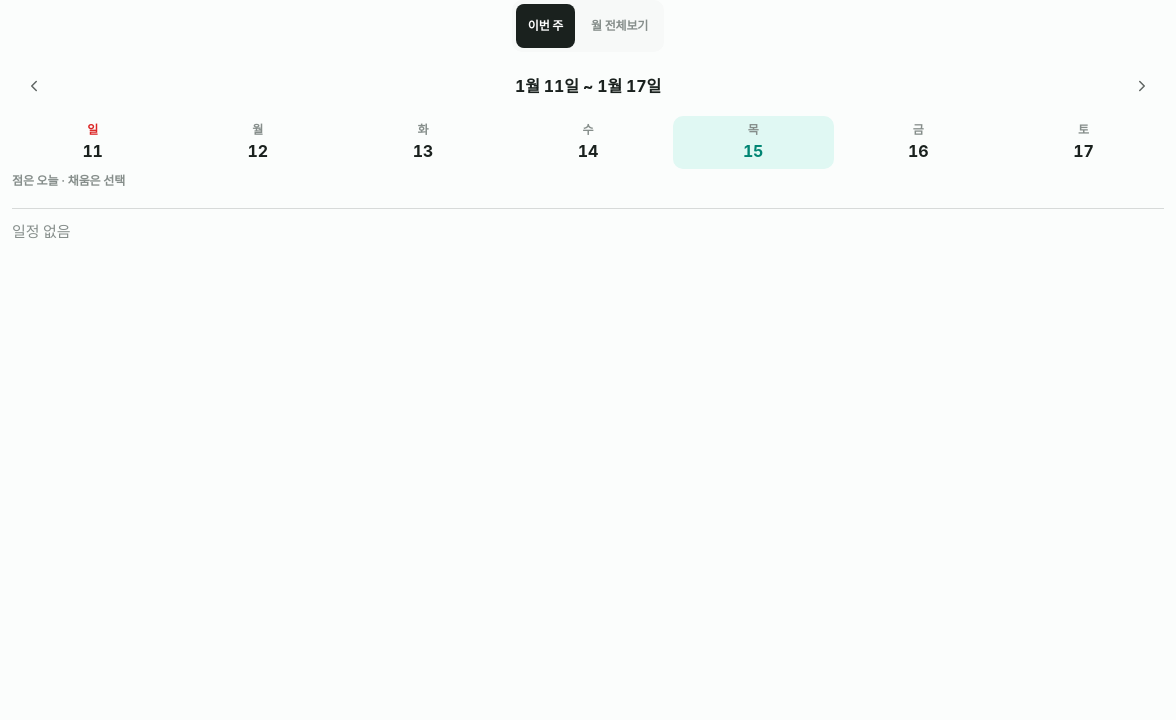
Test: AcademicCalendarGrid — 월 이동(월 전체보기) › 이전 달 버튼을 누르면 연도를 넘어 이동한다
The image size is (1176, 720).
Click the tab "월 전체보기" at (620, 26), box 579,4 -> 660,48
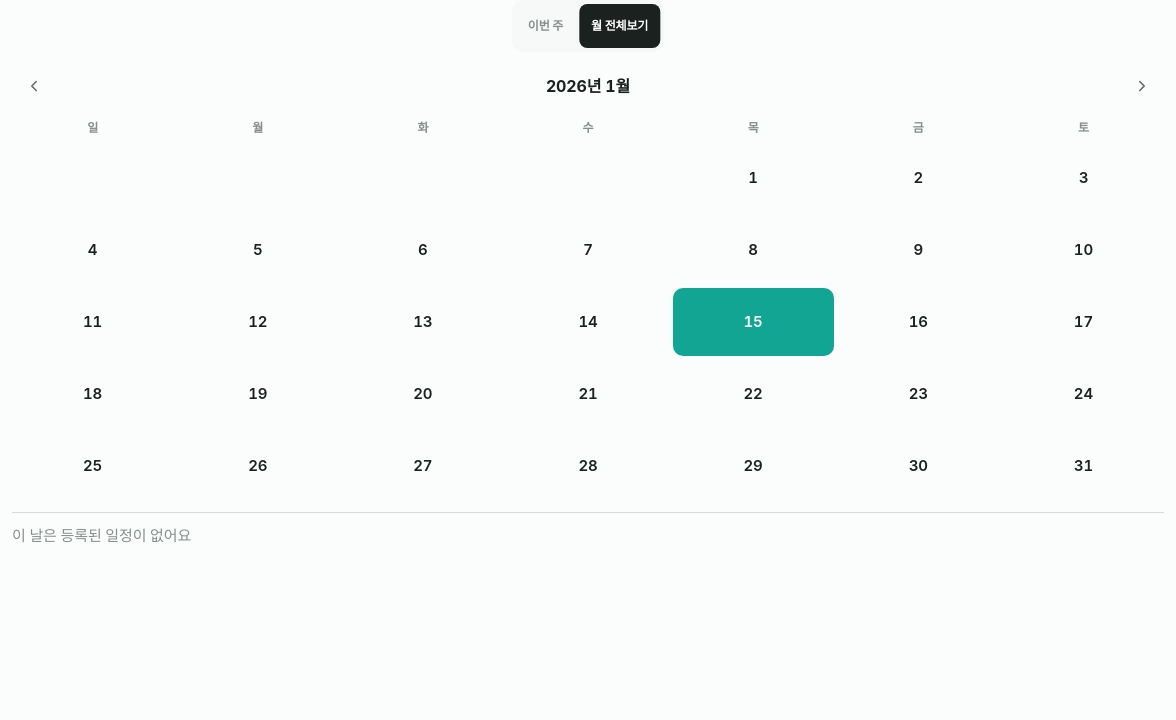
Expected: the text "2026년 1월" is shown, 546,74 -> 630,98
Click the button named "이전 달" at (34, 86), box 12,64 -> 56,108
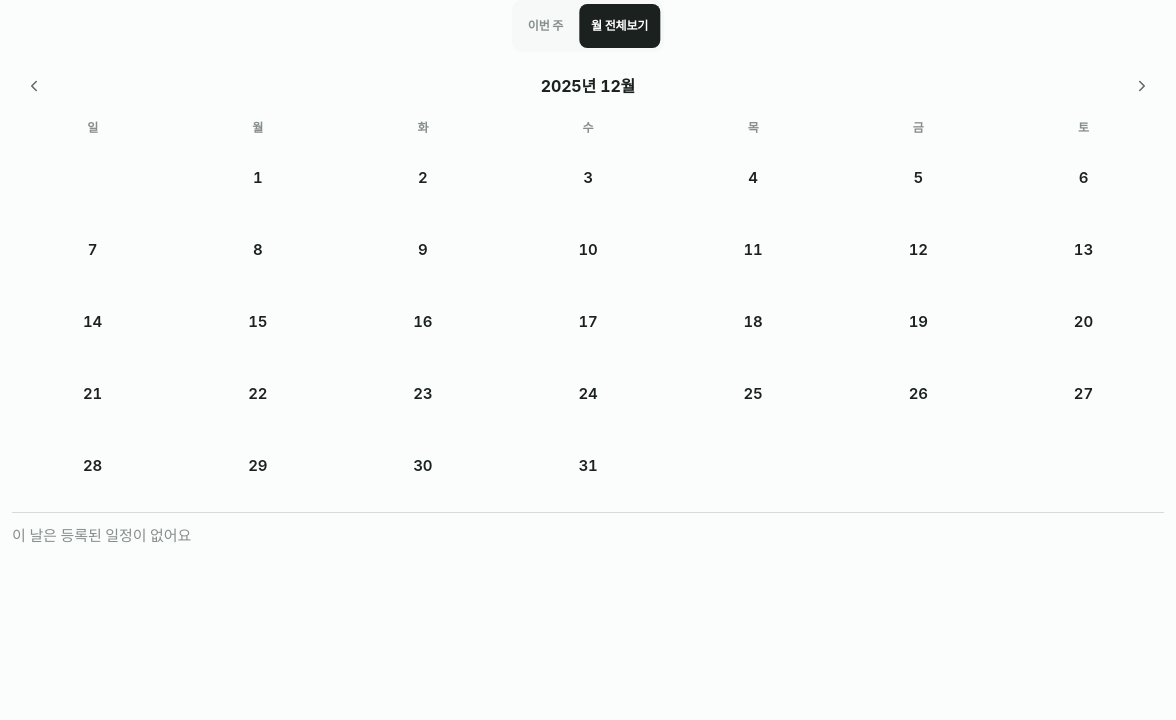
Expected: the text "2025년 12월" is shown, 541,74 -> 635,98
